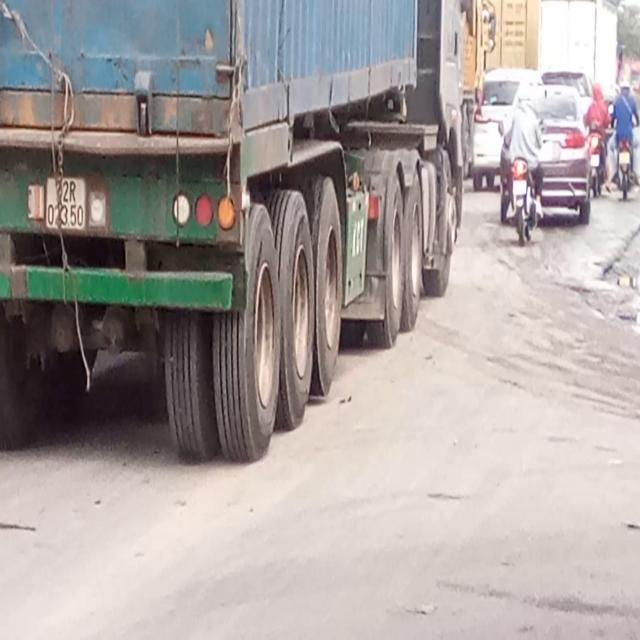bien_trang: (45, 172, 87, 228)
